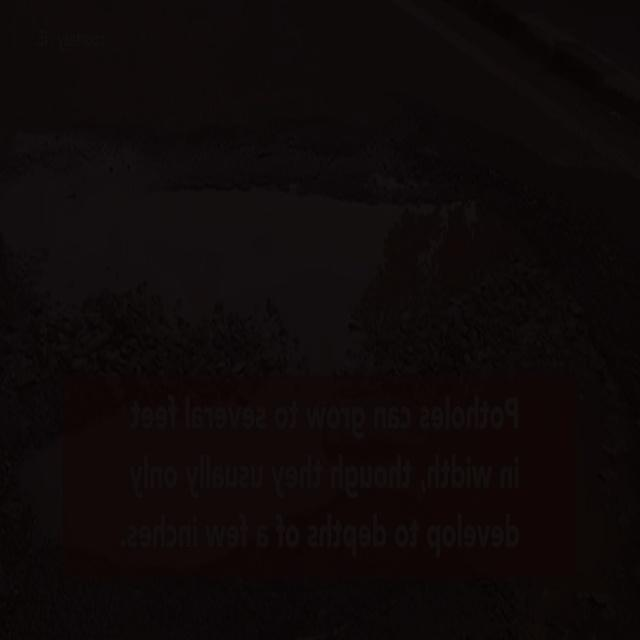Pothole: (9, 112, 539, 379), (0, 398, 365, 574)
